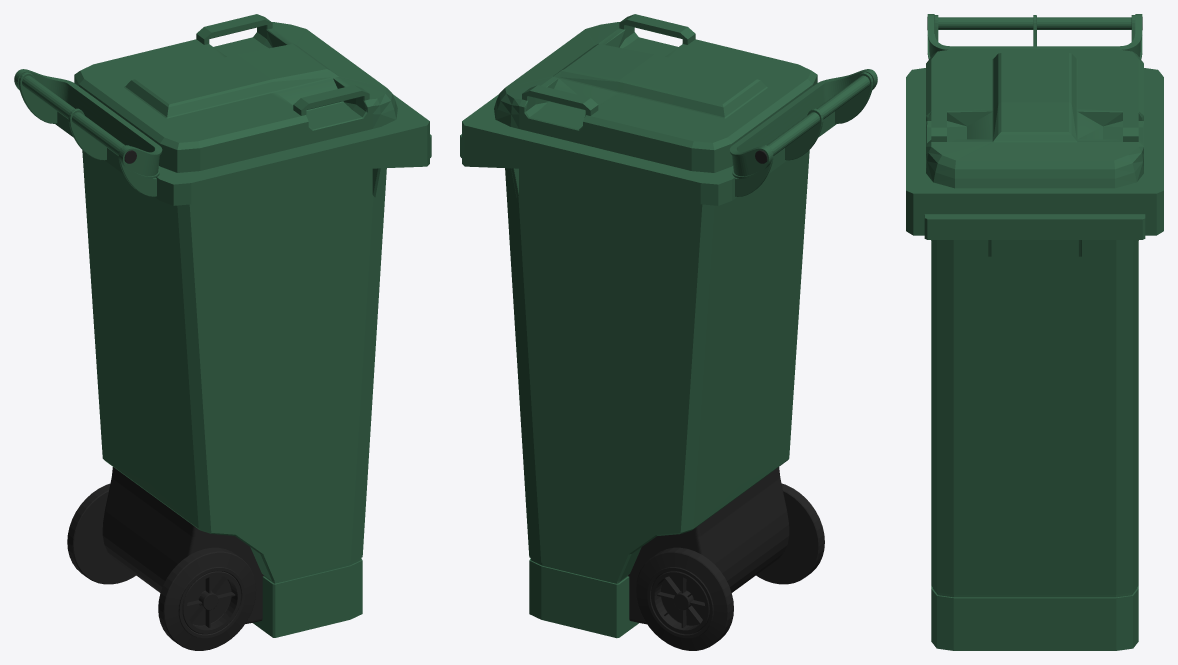
Rendered from Trash_Container_merged.fbx.
3 renders of one model, left to right at view 1: azimuth 30°, elevation 25°; view 2: azimuth 150°, elevation 25°; view 3: azimuth 270°, elevation 25°, orthographic.
Visible parts, largest first — view 1: Trash_Container_body; view 2: Trash_Container_body; view 3: Trash_Container_body.
Part boxes in pixels (x1=…): Trash_Container_body: x1=14, y1=14, x2=431, y2=650; Trash_Container_body: x1=460, y1=14, x2=877, y2=650; Trash_Container_body: x1=906, y1=14, x2=1163, y2=650.
Size of the model in its own units: 56.89 by 92.67 by 41.65.
